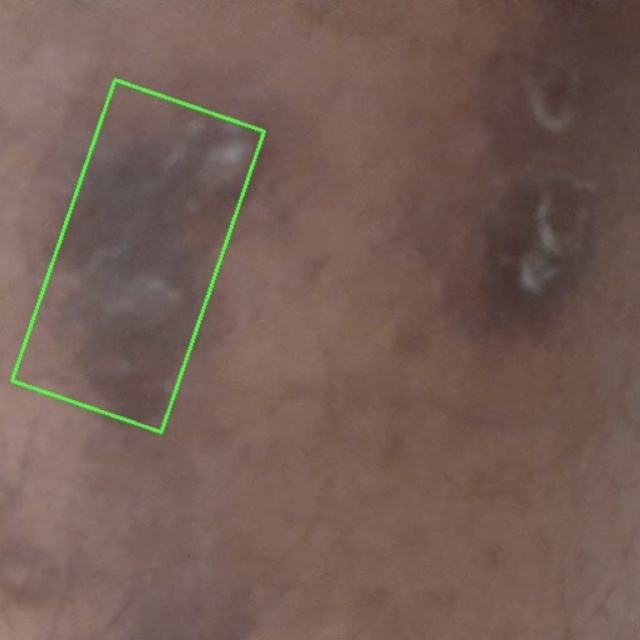Eczema: (12, 80, 265, 432)
